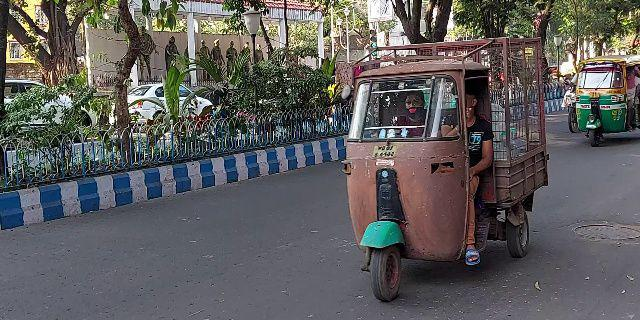Motorbike: (338, 33, 552, 305), (572, 53, 640, 149)
